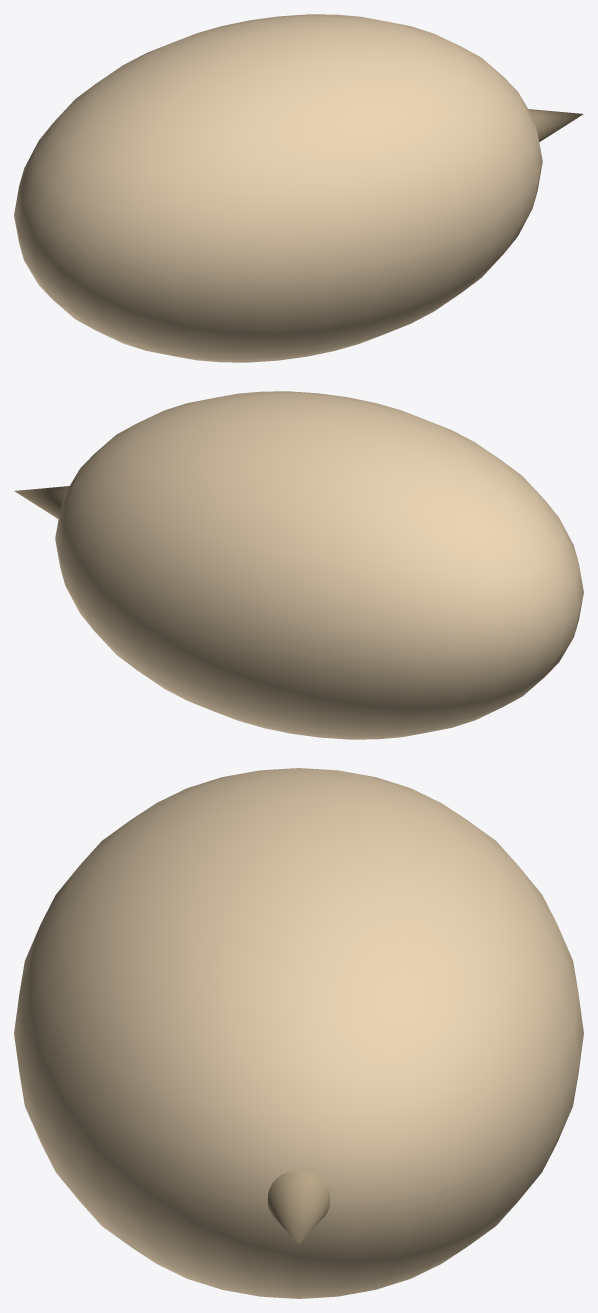
Rendered from SM_FOD_LATTICE_TUBER.fbx.
The picture shows the model from 3 angles, top to bottom: view 1: azimuth 30°, elevation 25°; view 2: azimuth 150°, elevation 25°; view 3: azimuth 270°, elevation 25°; orthographic projection. The views are drawn at different scales.
Parts seen in each view (by area): view 1: SM_FOD_LATTICE_TUBER; view 2: SM_FOD_LATTICE_TUBER; view 3: SM_FOD_LATTICE_TUBER.
Part boxes in pixels (x1=…): SM_FOD_LATTICE_TUBER: x1=14, y1=14, x2=583, y2=362; SM_FOD_LATTICE_TUBER: x1=14, y1=391, x2=583, y2=739; SM_FOD_LATTICE_TUBER: x1=14, y1=768, x2=583, y2=1298.
Size of what is drawn, in the model's own units: 0.252 by 0.128 by 0.16.
